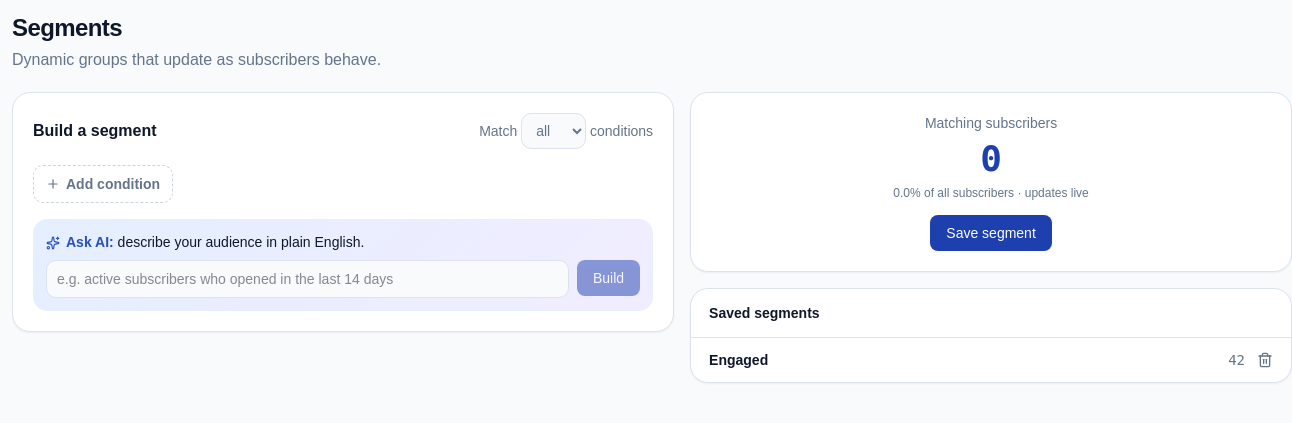
adds a condition, shows the live preview count, and lists saved segments
Expected: the text "Engaged" is shown, [709,352,768,368]
Click the button "Add condition" at (103, 184), box [33,165,173,203]
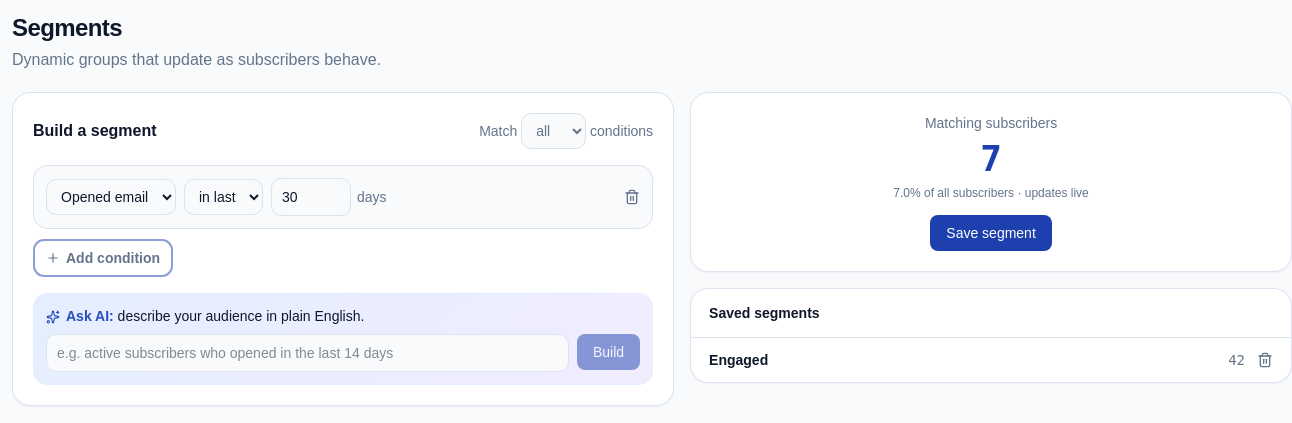
Now the text "7" is shown, box [980,138,1002,179]
